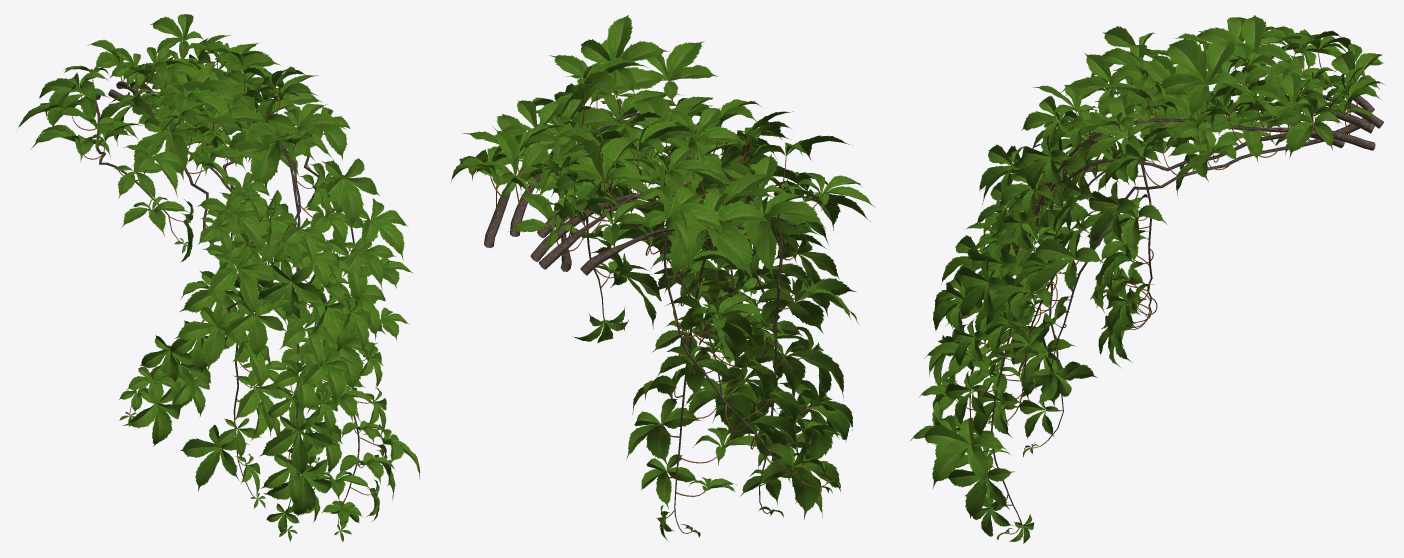
File: Virginia_Creeper_0203.fbx
3 views of the same model, side by side, from view 1: azimuth 30°, elevation 25°; view 2: azimuth 150°, elevation 25°; view 3: azimuth 270°, elevation 25° (orthographic). The views are drawn at different scales.
Visible parts, largest first — view 1: Virginia_Creeper_0203; view 2: Virginia_Creeper_0203; view 3: Virginia_Creeper_0203.
Part boxes in pixels (x1,y1,x2,y2): Virginia_Creeper_0203: (18,14,420,541); Virginia_Creeper_0203: (451,15,875,541); Virginia_Creeper_0203: (910,15,1384,543).
Bounding box in the file's own units: 71.72 × 97.02 × 86.79.
3 materials, 3 textured.
